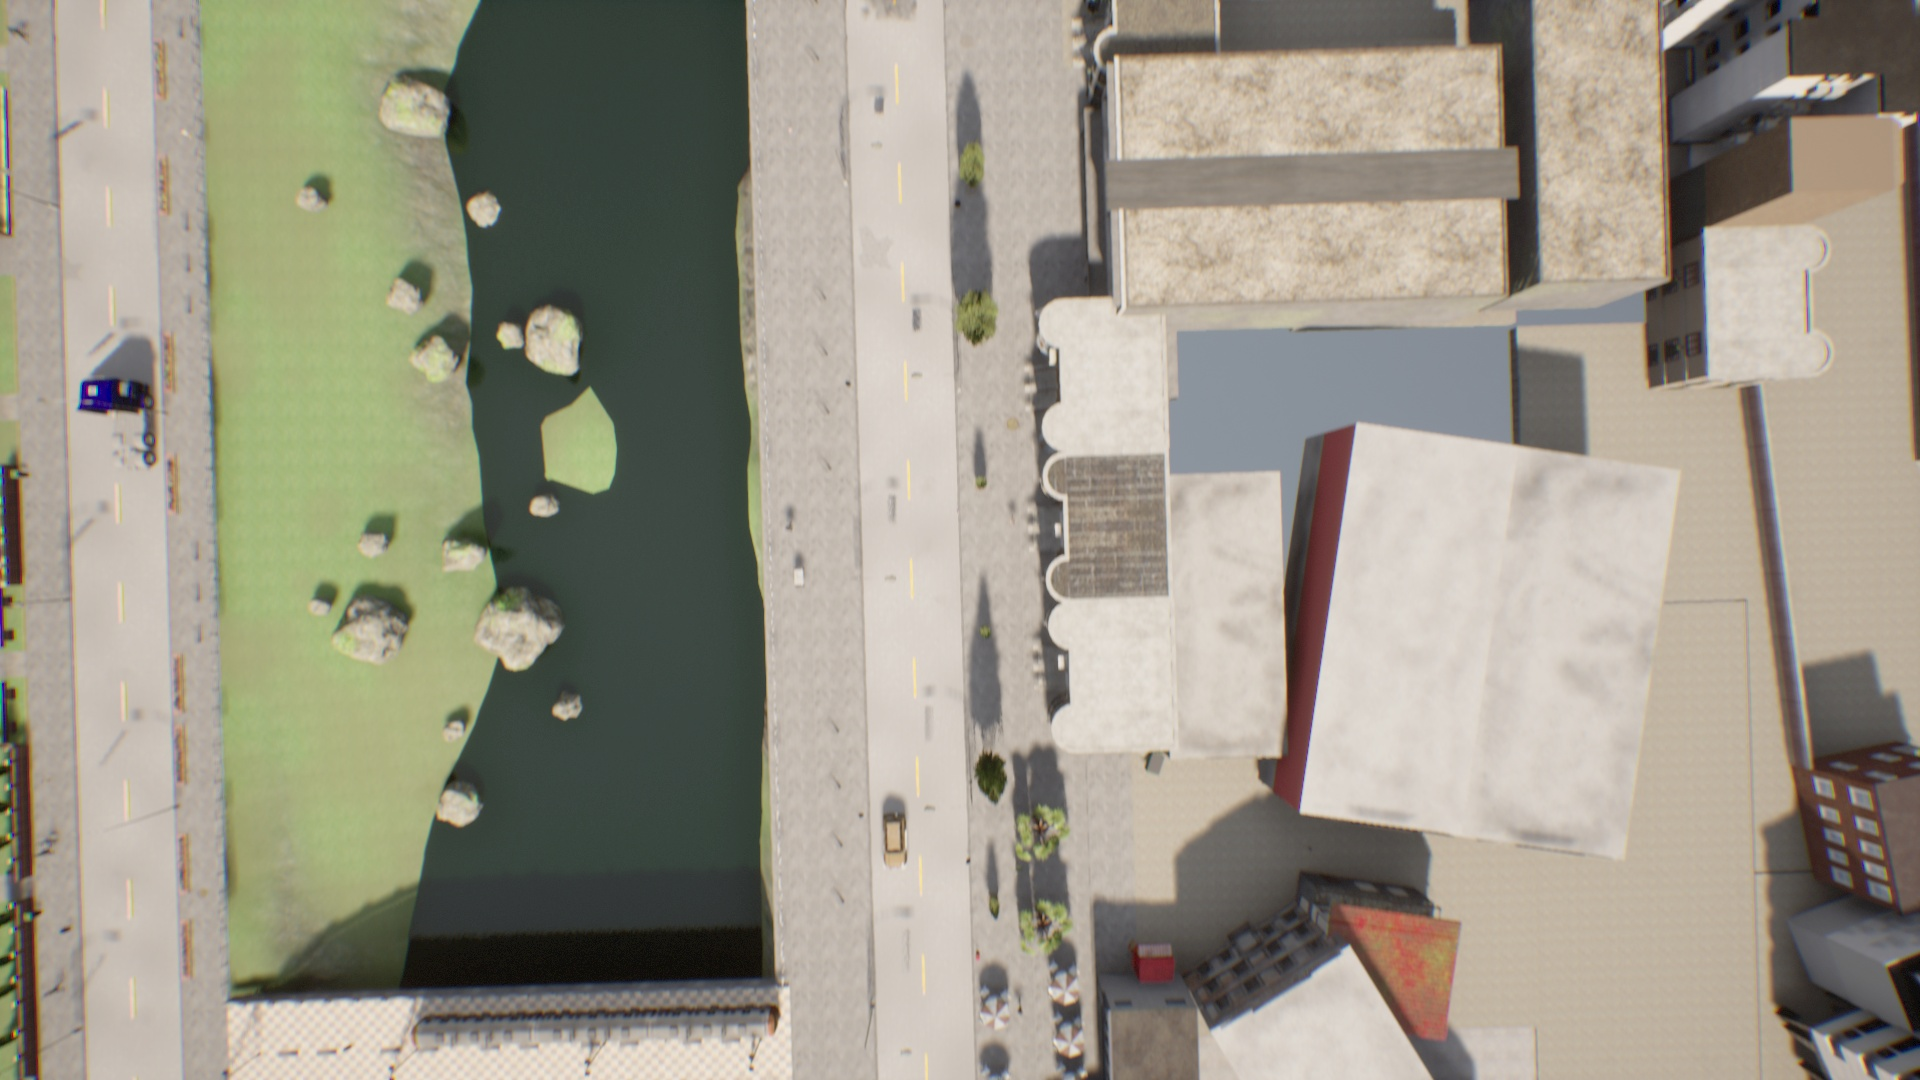Car: (877, 810, 910, 873)
Truck: (62, 355, 162, 484)
